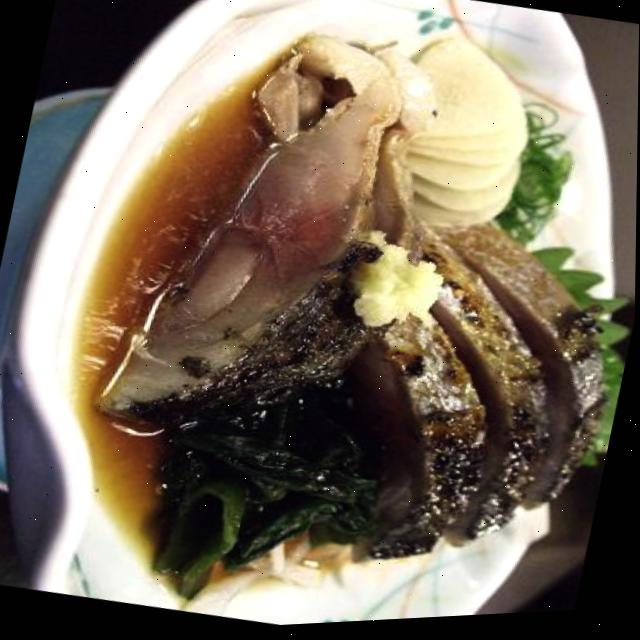熟制海鲜: (42, 0, 640, 638)
